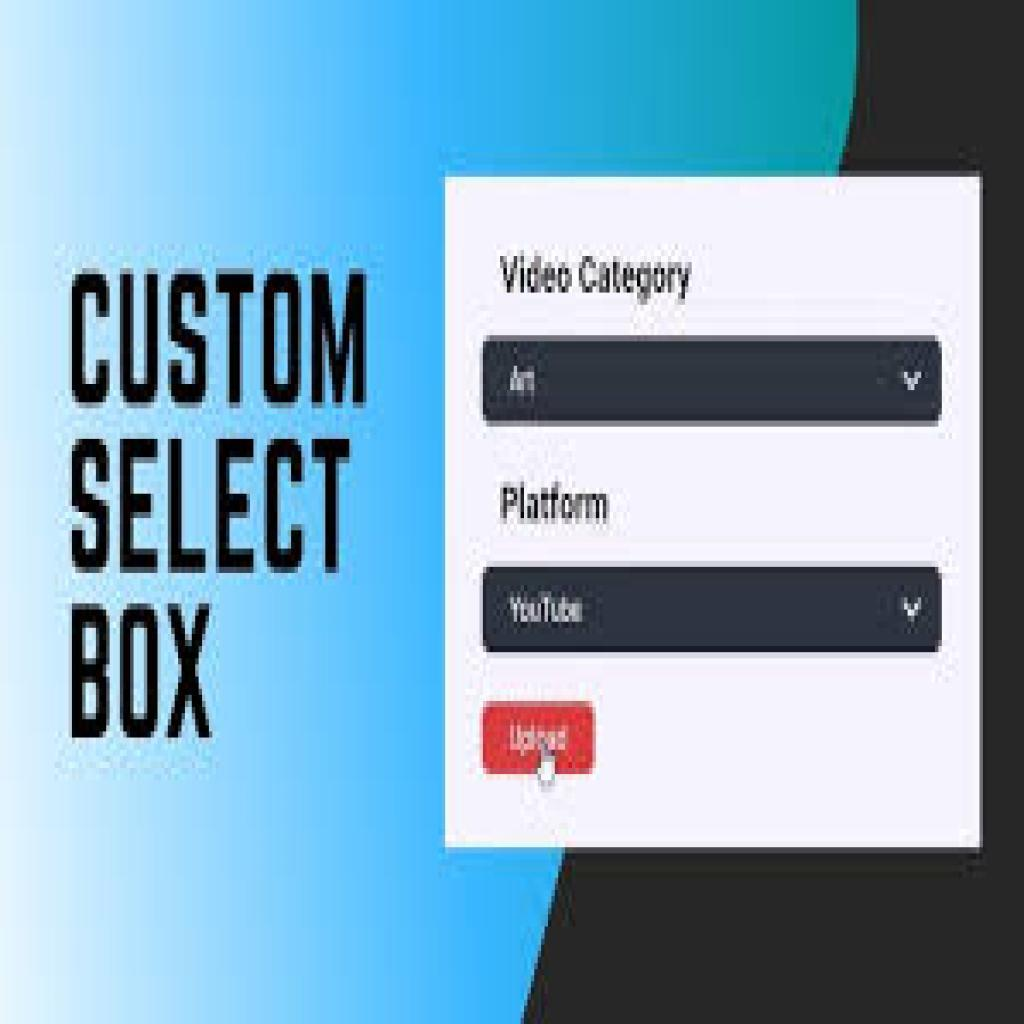button: (483, 699, 595, 777)
dropdown: (484, 566, 944, 654), (484, 336, 943, 424)
